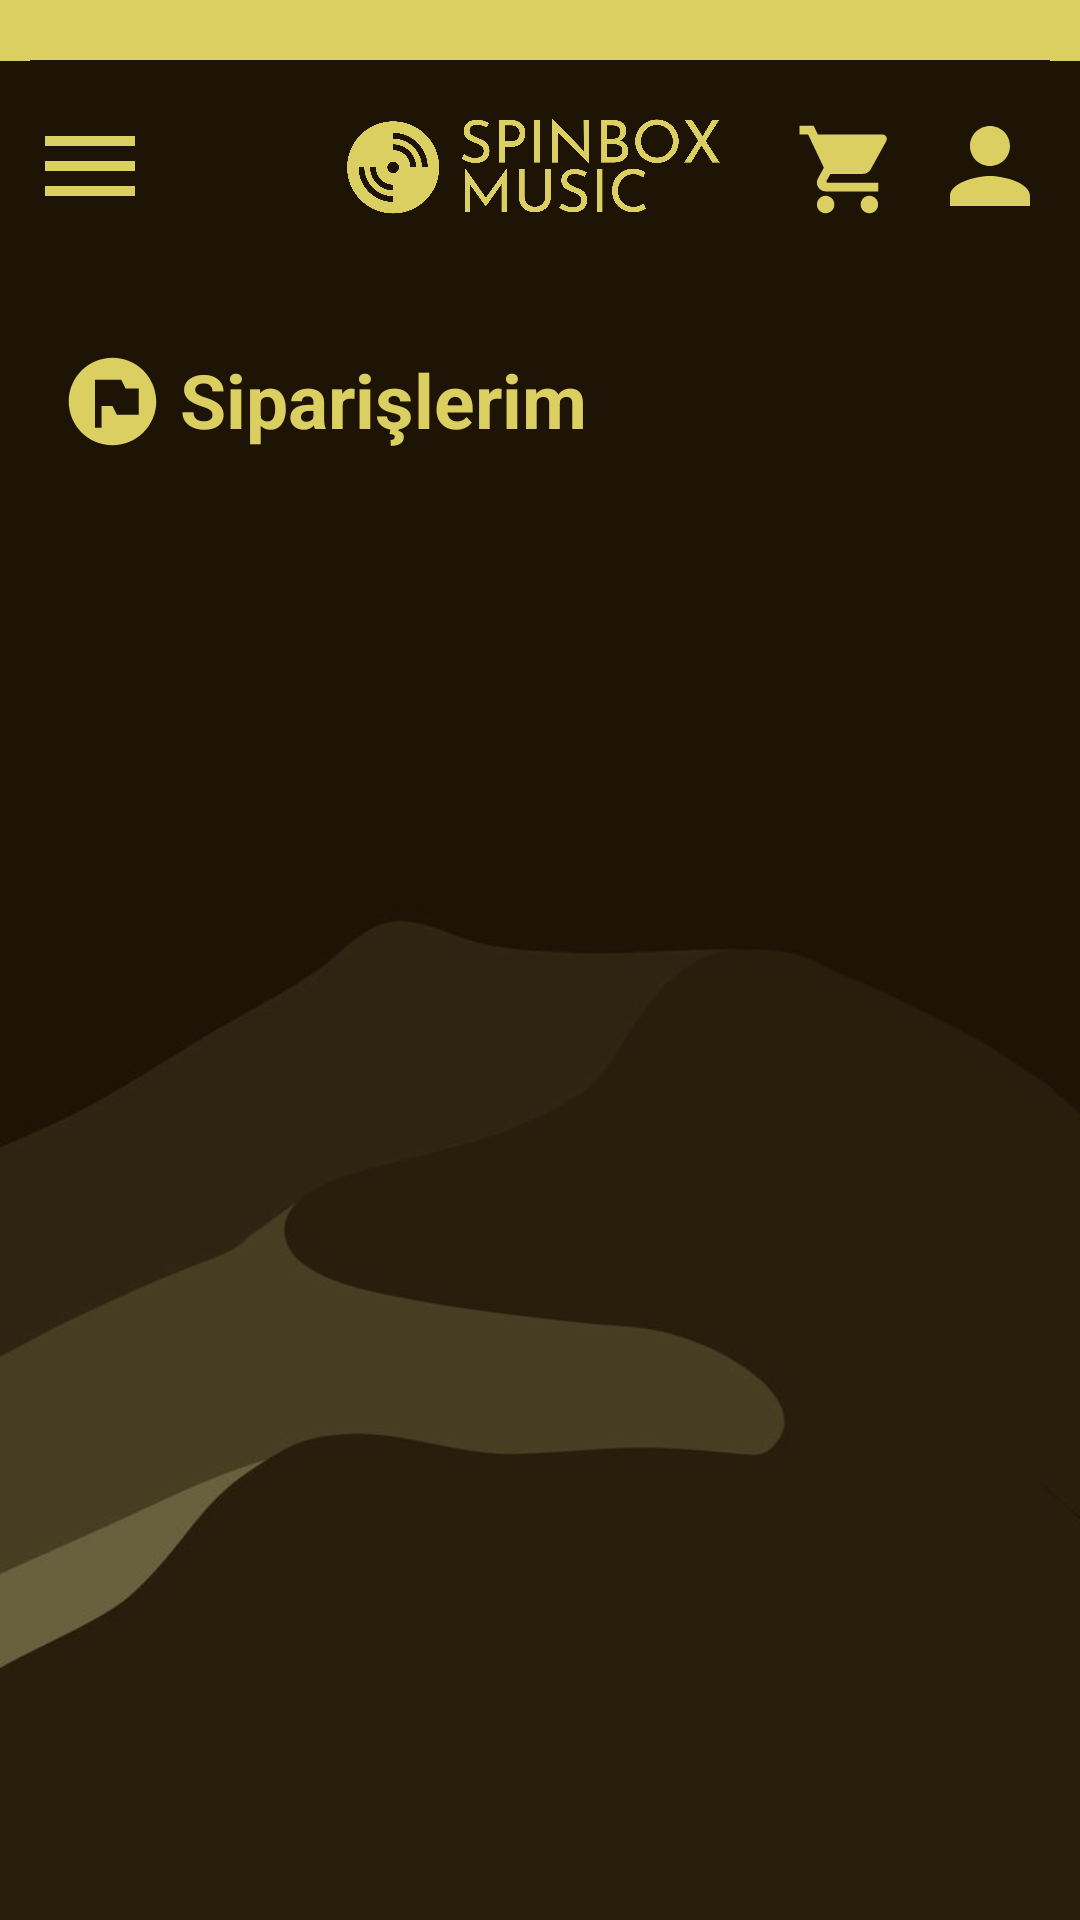

Screen size 1080x1920. Icon name, then its center in pixels as point (x, y):
flag circle: point (112, 401)
menu: point (90, 166)
person: point (990, 166)
shopping cart: point (843, 169)
